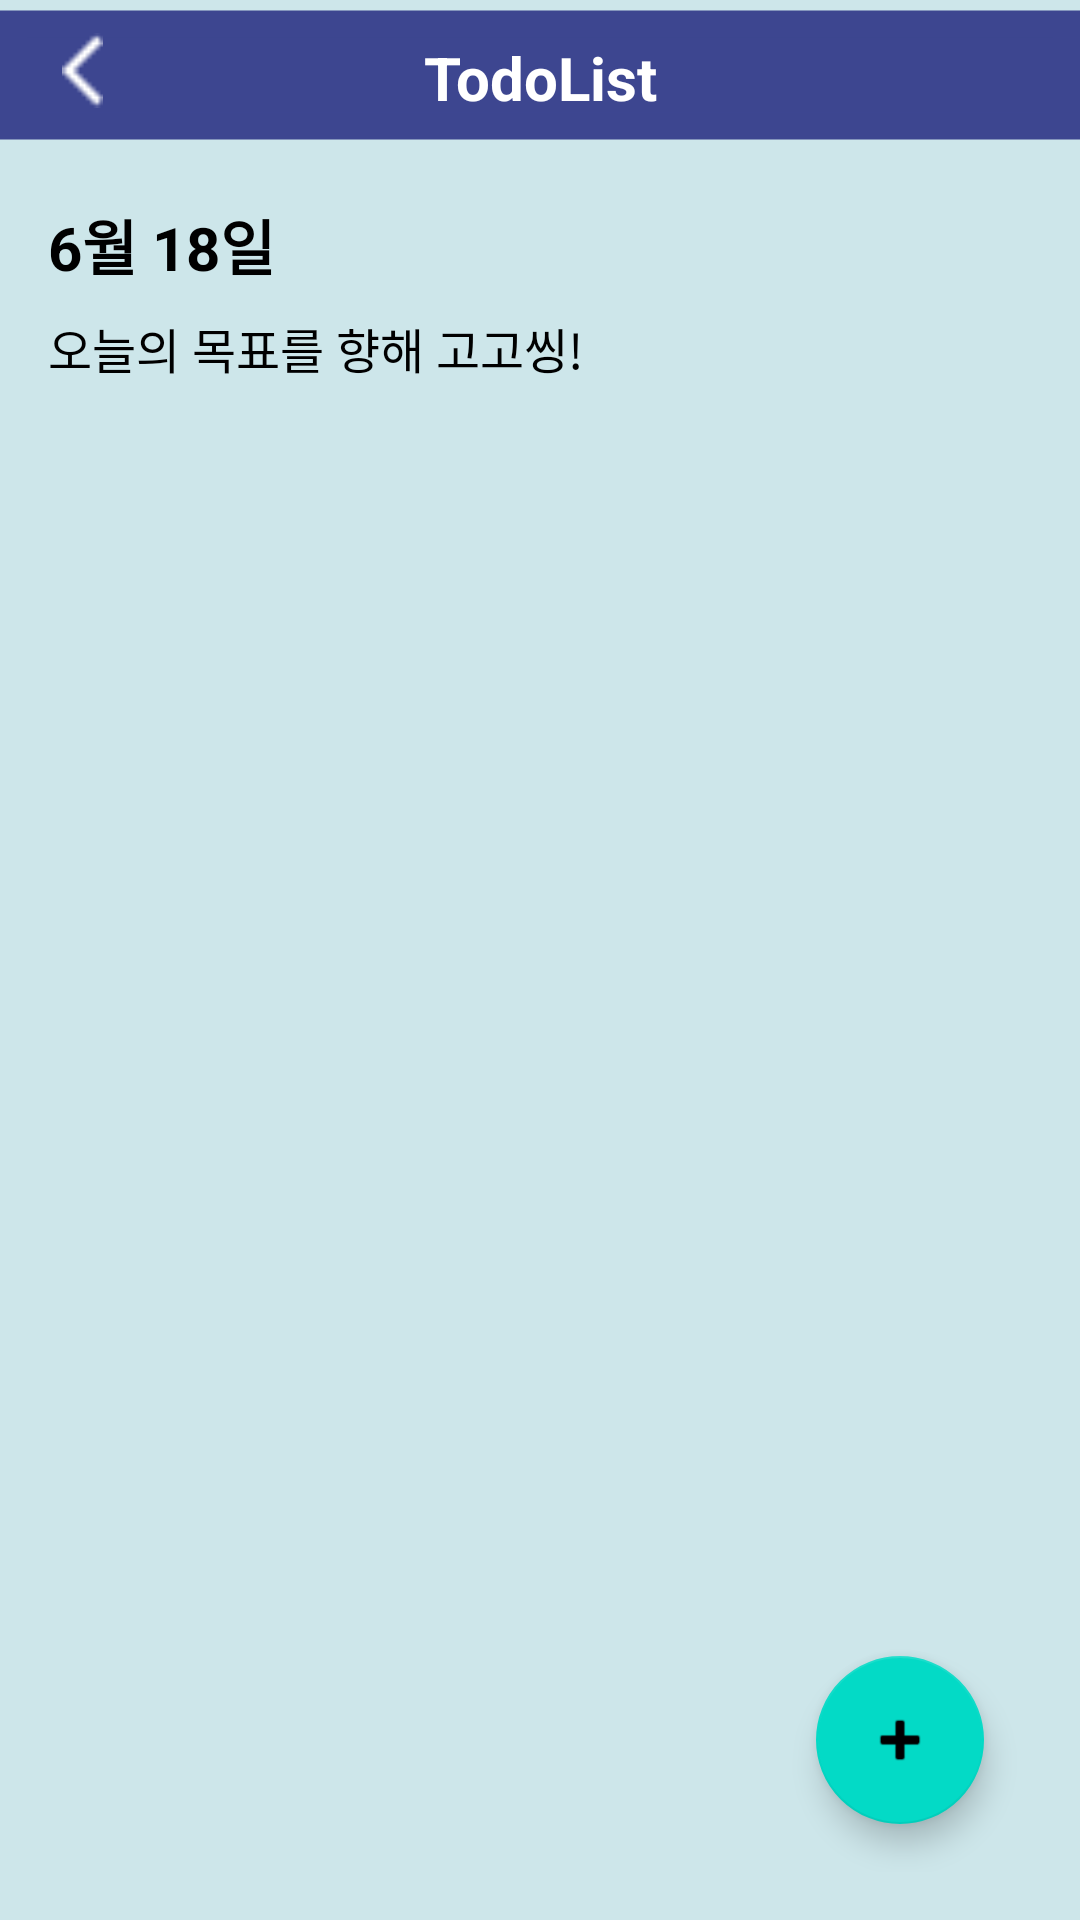

Where to tap for icons on this 1080*1920 app screen, as (x,y):
Add Todo: (900,1740)
arrow left: (82,70)
